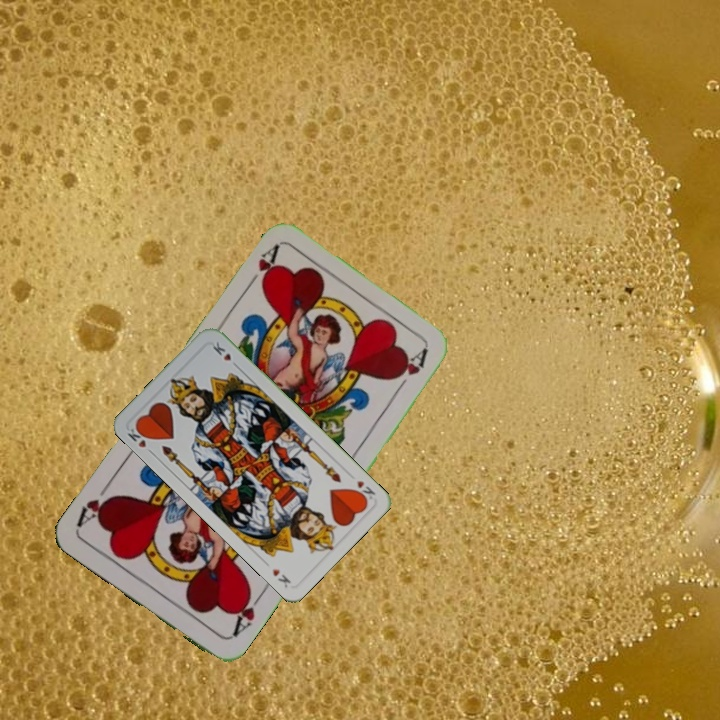HA: (240, 241, 282, 293), (227, 585, 266, 640)
HK: (124, 421, 153, 450), (350, 476, 378, 505)
